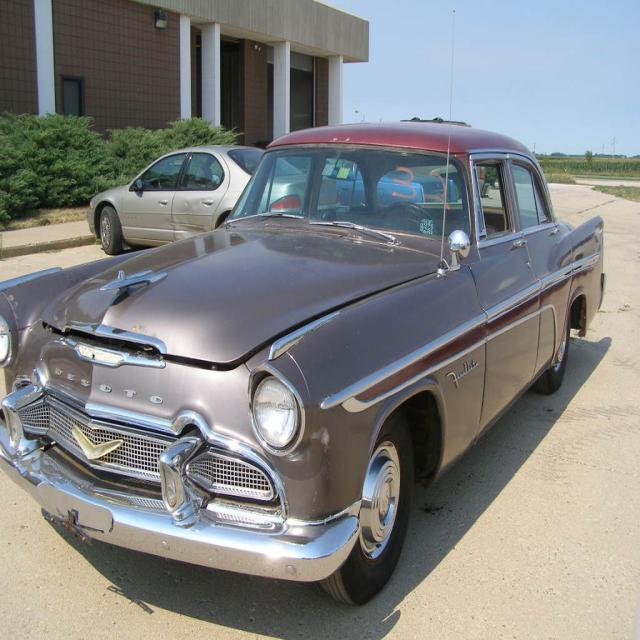car: (0, 0, 607, 638)
